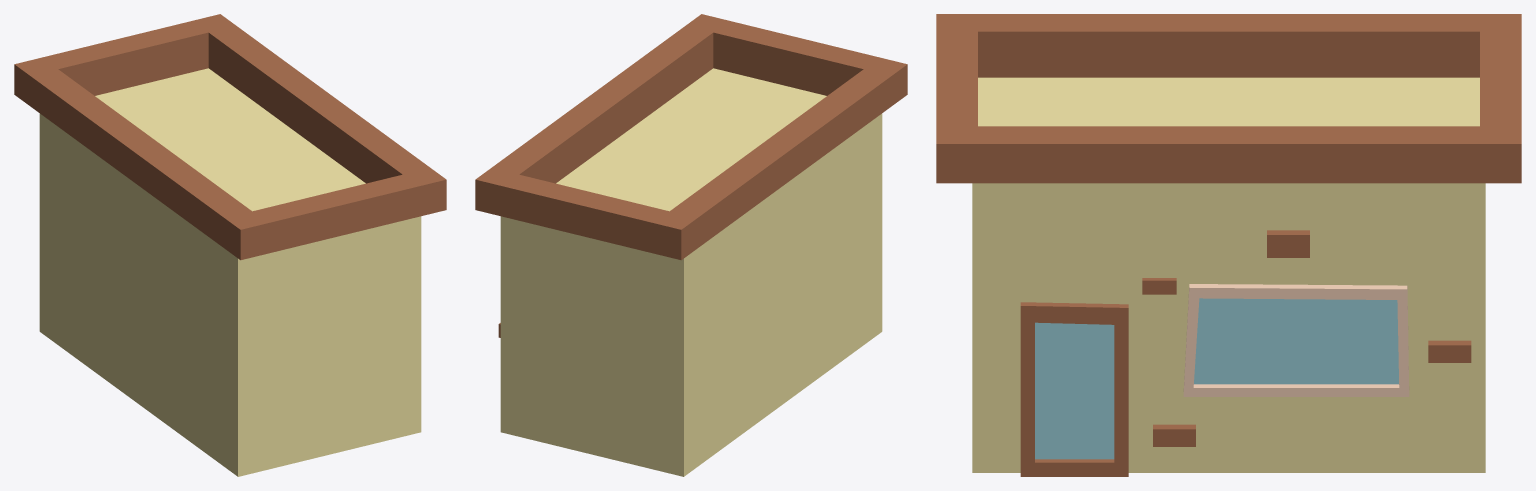
Rendered from Cream_House_.fbx.
The picture shows the model from 3 angles, left to right: view 1: azimuth 30°, elevation 25°; view 2: azimuth 150°, elevation 25°; view 3: azimuth 270°, elevation 25°; orthographic projection. The views are drawn at different scales.
Visible parts, largest first — view 1: Cream House; view 2: Cream House; view 3: Cream House.
Boxes of the visible parts, x1,y1,x2,y2 form: Cream House: [14, 14, 446, 476]; Cream House: [475, 14, 907, 476]; Cream House: [936, 14, 1521, 476].
Size of the model in its own units: 721 by 870 by 1371.
